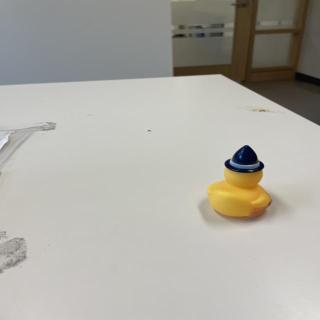duck_specialty: (206, 144, 276, 220)
